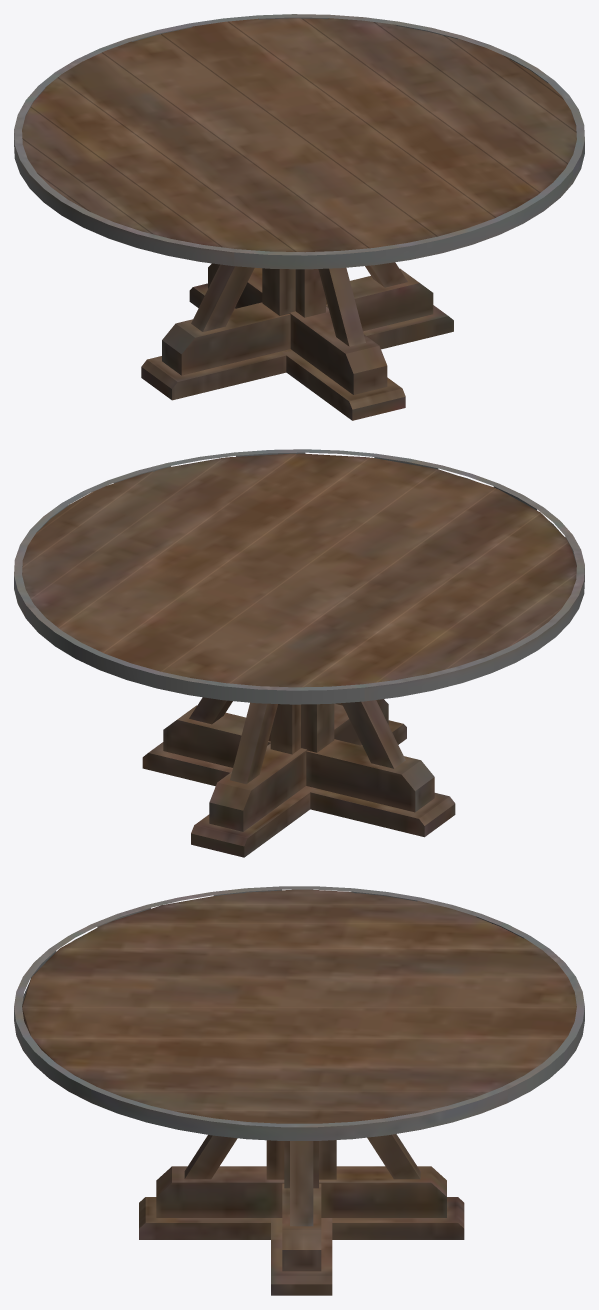
Rendered from SM_circular_table_a14174.glb.
3 views of the same model, one above another, from view 1: azimuth 30°, elevation 25°; view 2: azimuth 150°, elevation 25°; view 3: azimuth 270°, elevation 25° (orthographic).
Bounding box in the file's own units: 1.84 × 0.7856 × 1.84.
1 material, 1 textured.
